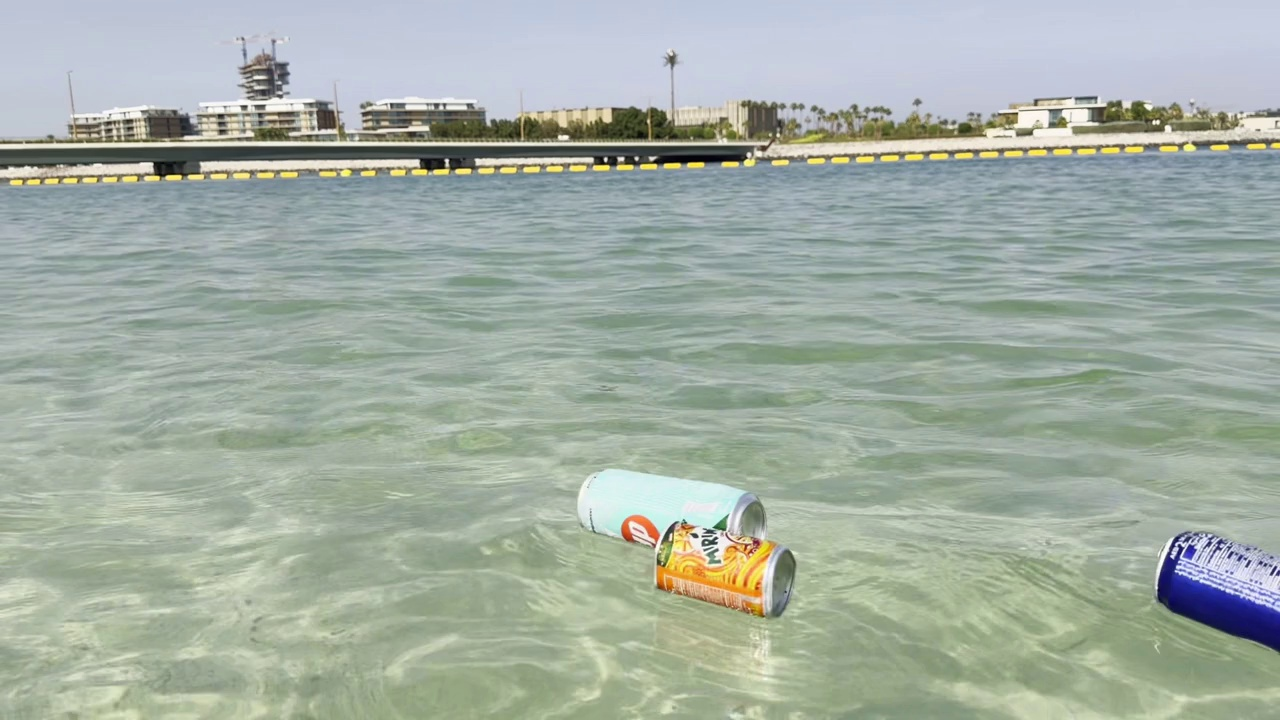debris: (569, 462, 769, 561), (637, 515, 810, 623), (1140, 523, 1228, 636)
